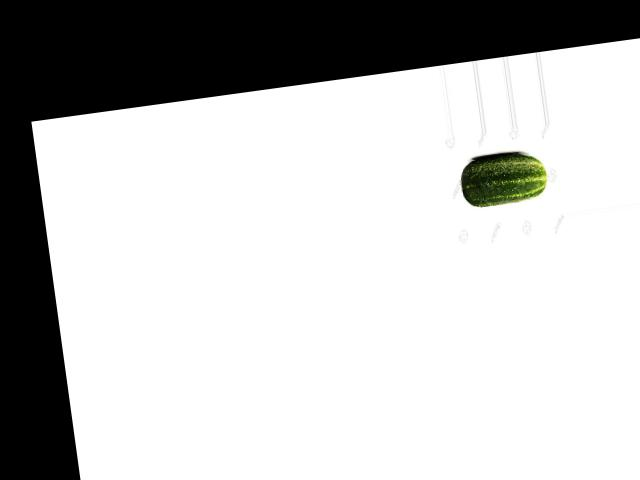cucumber: (456, 148, 548, 209)
